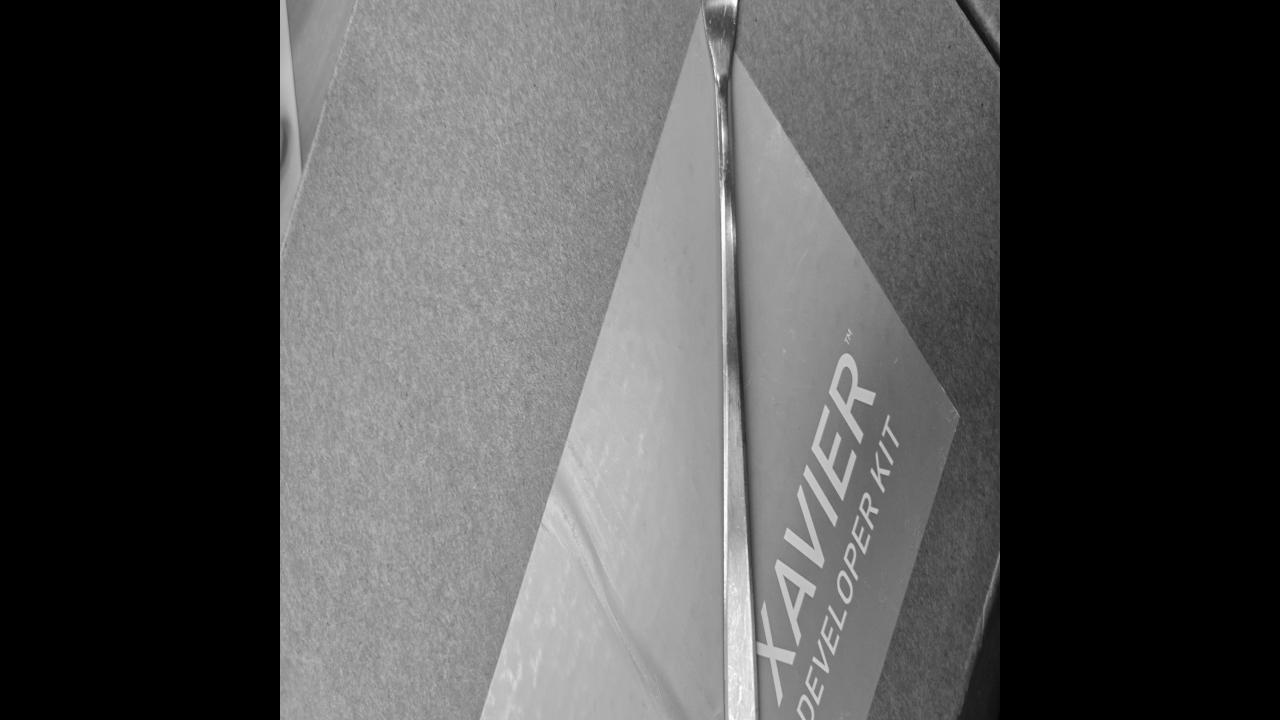fork: (698, 0, 760, 720)
